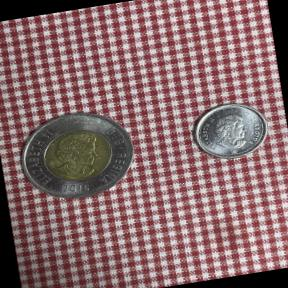coin: (10, 97, 147, 212), (182, 95, 276, 170)
